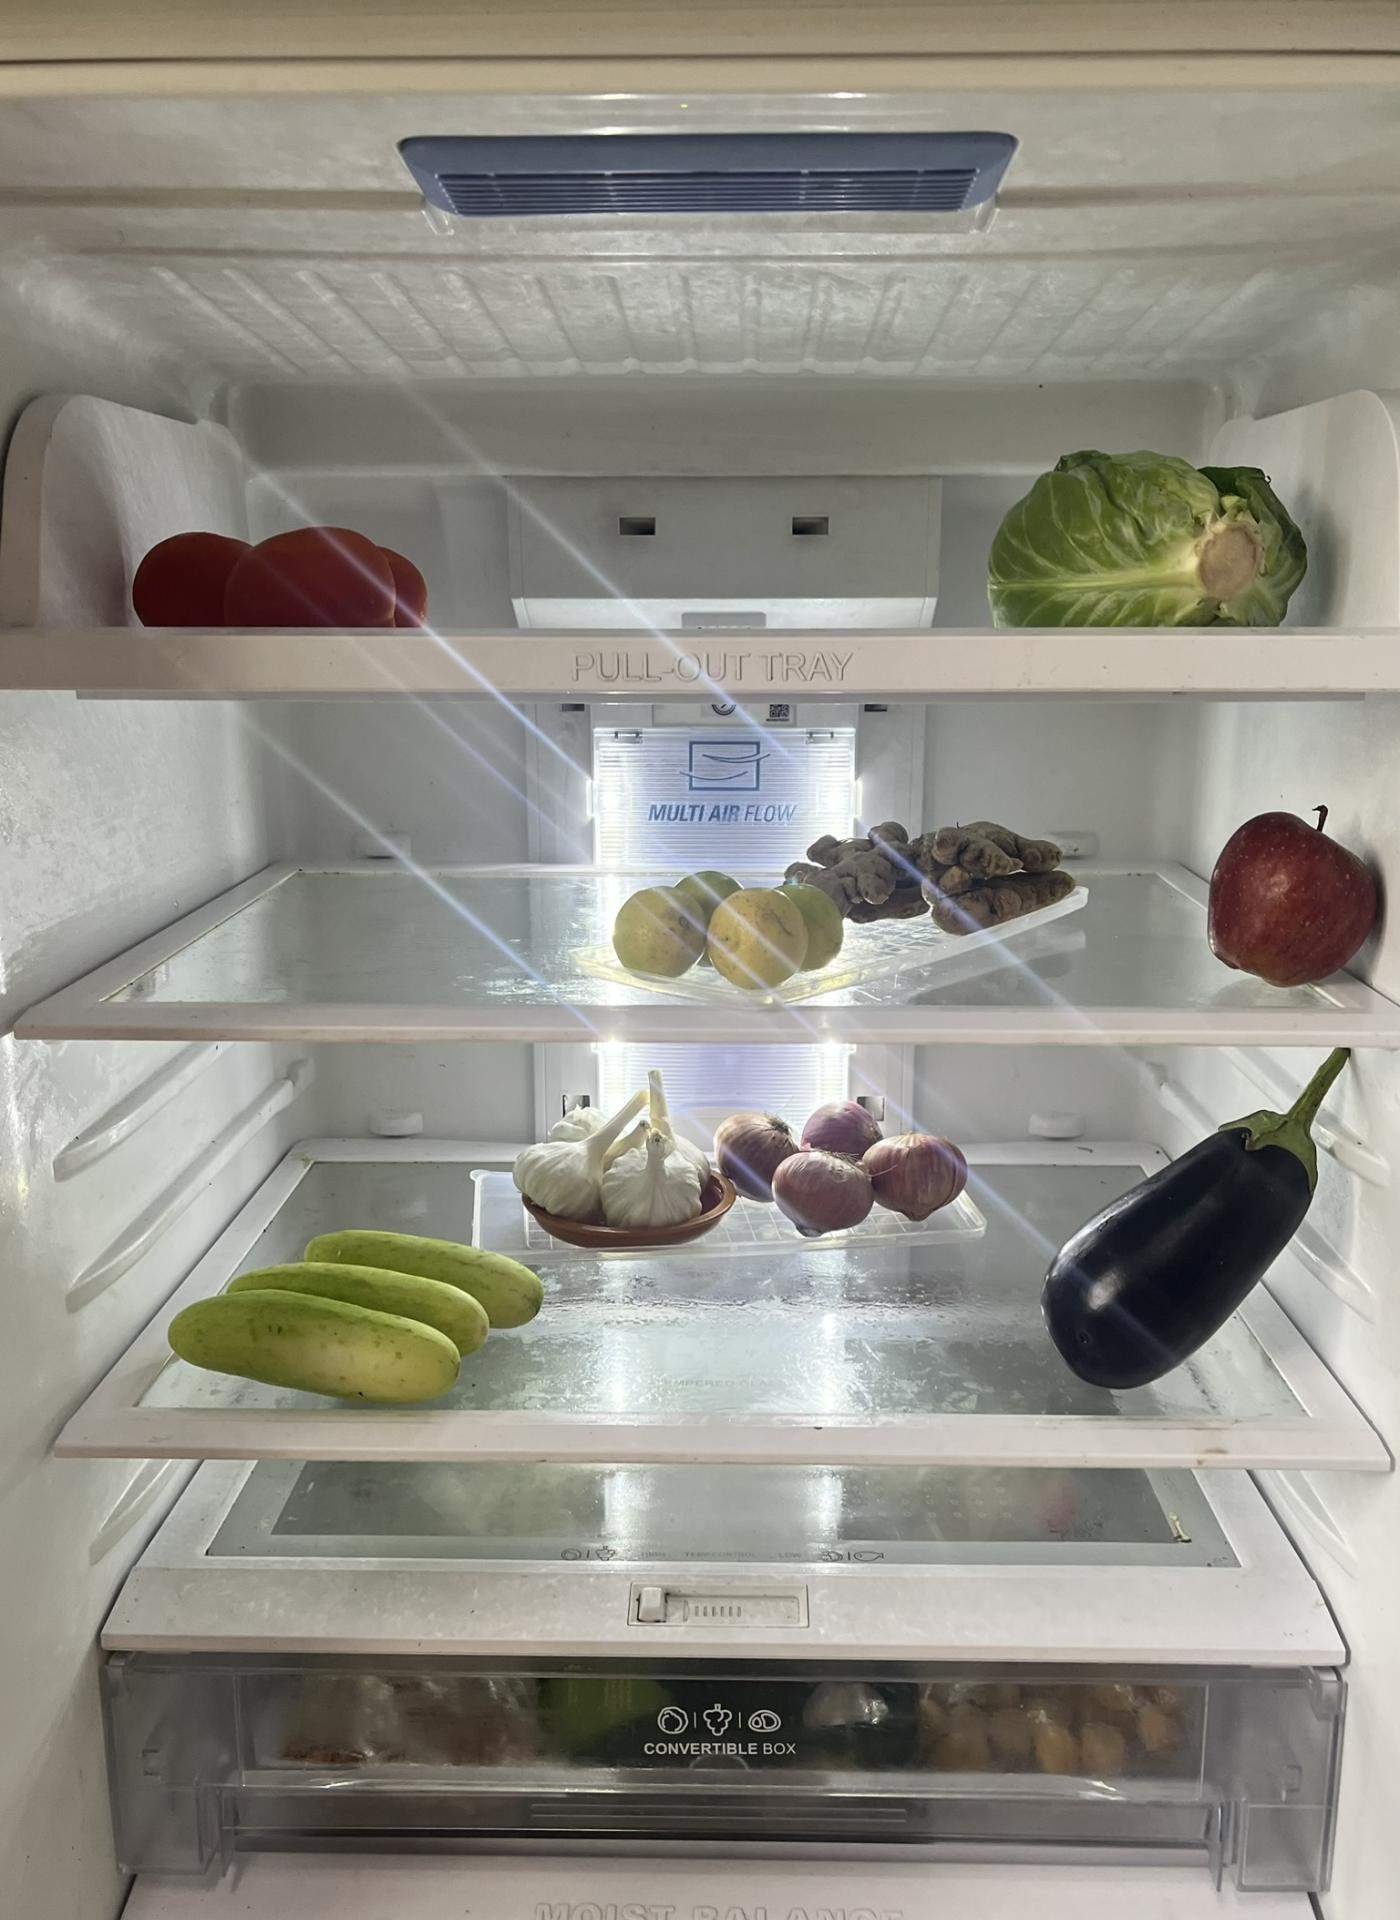apple: (1208, 798, 1381, 982)
brinjal: (1047, 1032, 1346, 1385)
cabbage: (980, 444, 1311, 625)
cucumber: (160, 1230, 547, 1407)
garlic: (516, 1073, 716, 1236)
ginger: (808, 818, 1078, 930)
lemon: (622, 869, 854, 990)
onion: (720, 1087, 971, 1222)
tomato: (130, 522, 426, 629)
